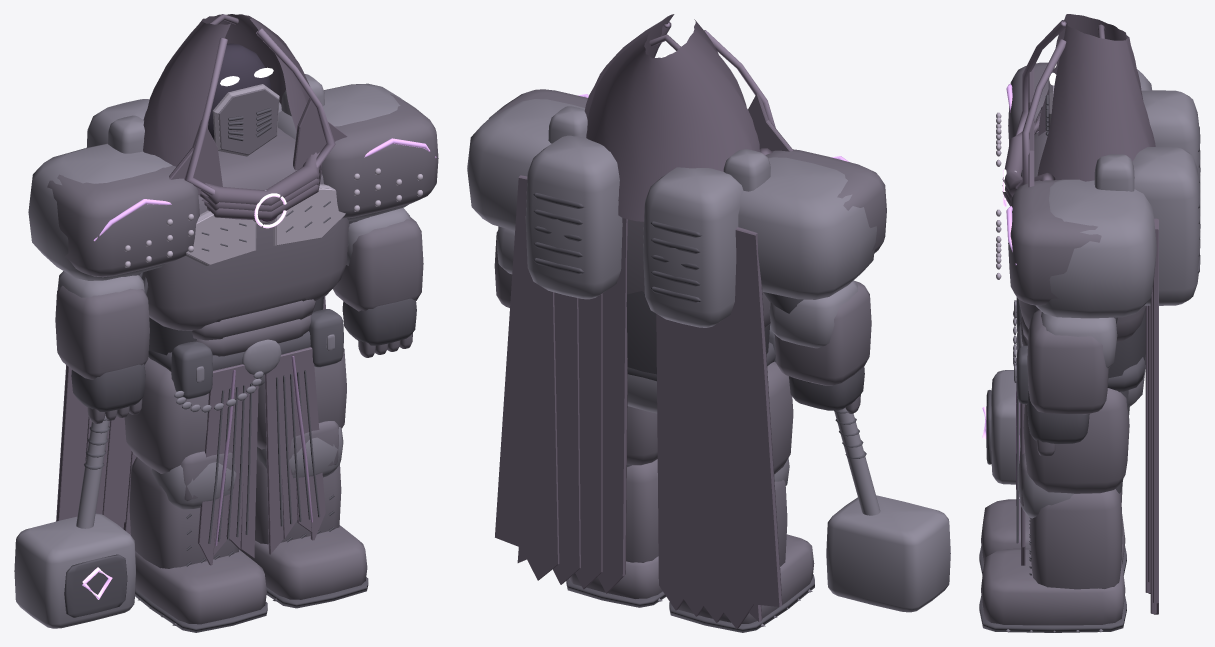
The model's file is ARCHAMUS_Mirror_Universe.glb.
The picture shows the model from 3 angles, left to right: view 1: azimuth 30°, elevation 25°; view 2: azimuth 150°, elevation 25°; view 3: azimuth 270°, elevation 25°; orthographic projection. The views are drawn at different scales.
Parts seen in each view (by area): view 1: Layered cuirass gold shell, Left gold shoulder plate, Weathered cloth hood shell, Right gold shoulder plate, Dark square warhammer head, Left gold forearm shell, Left heavy boot, Left oversize shoulder shell, Right heavy boot, Right gold forearm shell, Left thigh gold plate, Left broad greave (+48 smaller); view 2: Weathered cloth hood shell, Weathered cloak strip -1-3, Weathered cloak strip 1-3, Left oversize shoulder shell, Left rear reactor housing, Right rear reactor housing, Dark square warhammer head, Weathered cloak strip 1-0, Right oversize shoulder shell, Weathered cloak strip 1-2, Weathered cloak strip 1-1, Weathered cloak strip -1-2 (+24 smaller); view 3: Weathered cloth hood shell, Right oversize shoulder shell, Right broad greave, Right rear reactor housing, Right heavy boot, Right thigh gold plate, Right gold shoulder plate, Right gold forearm shell, Left rear reactor housing, Dark square warhammer head, Weathered cloak strip 1-3, Left heavy boot (+20 smaller).
Boxes of the visible parts, x1=… form: Layered cuirass gold shell: x1=142, y1=128, x2=348, y2=330; Left gold shoulder plate: x1=47, y1=165, x2=199, y2=277; Weathered cloth hood shell: x1=143, y1=14, x2=309, y2=166; Right gold shoulder plate: x1=321, y1=94, x2=438, y2=218; Dark square warhammer head: x1=14, y1=513, x2=135, y2=628; Left gold forearm shell: x1=55, y1=285, x2=149, y2=379; Left heavy boot: x1=135, y1=549, x2=266, y2=624; Left oversize shoulder shell: x1=28, y1=143, x2=175, y2=280; Right heavy boot: x1=240, y1=525, x2=367, y2=599; Right gold forearm shell: x1=333, y1=217, x2=423, y2=311; Left thigh gold plate: x1=124, y1=357, x2=208, y2=473; Left broad greave: x1=129, y1=457, x2=238, y2=568; Weathered cloth hood shell: x1=584, y1=14, x2=759, y2=221; Weathered cloak strip -1-3: x1=716, y1=227, x2=782, y2=628; Weathered cloak strip 1-3: x1=495, y1=175, x2=559, y2=580; Left oversize shoulder shell: x1=738, y1=157, x2=876, y2=299; Left rear reactor housing: x1=643, y1=167, x2=743, y2=327; Right rear reactor housing: x1=525, y1=135, x2=622, y2=299; Dark square warhammer head: x1=826, y1=495, x2=950, y2=612; Weathered cloak strip 1-0: x1=597, y1=218, x2=627, y2=593; Right oversize shoulder shell: x1=467, y1=99, x2=584, y2=230; Weathered cloak strip 1-2: x1=517, y1=292, x2=580, y2=584; Weathered cloak strip 1-1: x1=575, y1=293, x2=602, y2=589; Weathered cloak strip -1-2: x1=697, y1=321, x2=762, y2=622; Weathered cloth hood shell: x1=1037, y1=14, x2=1155, y2=181; Right oversize shoulder shell: x1=1036, y1=179, x2=1156, y2=318; Right broad greave: x1=1030, y1=489, x2=1122, y2=589; Right rear reactor housing: x1=1132, y1=147, x2=1200, y2=305; Right heavy boot: x1=981, y1=548, x2=1125, y2=625; Right thigh gold plate: x1=1023, y1=388, x2=1129, y2=493; Right gold shoulder plate: x1=1008, y1=180, x2=1101, y2=305; Right gold forearm shell: x1=1027, y1=309, x2=1108, y2=414; Left rear reactor housing: x1=1141, y1=90, x2=1200, y2=183; Dark square warhammer head: x1=991, y1=370, x2=1019, y2=484; Weathered cloak strip 1-3: x1=1153, y1=218, x2=1158, y2=614; Left heavy boot: x1=981, y1=499, x2=1125, y2=563.
Size of the model in its own units: 3.53 by 4.63 by 1.62.
